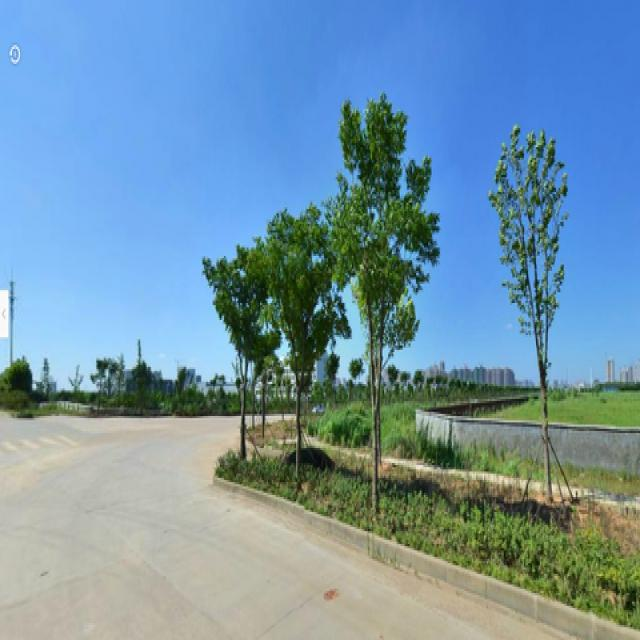meta: (491, 137, 580, 516), (345, 115, 416, 508)
